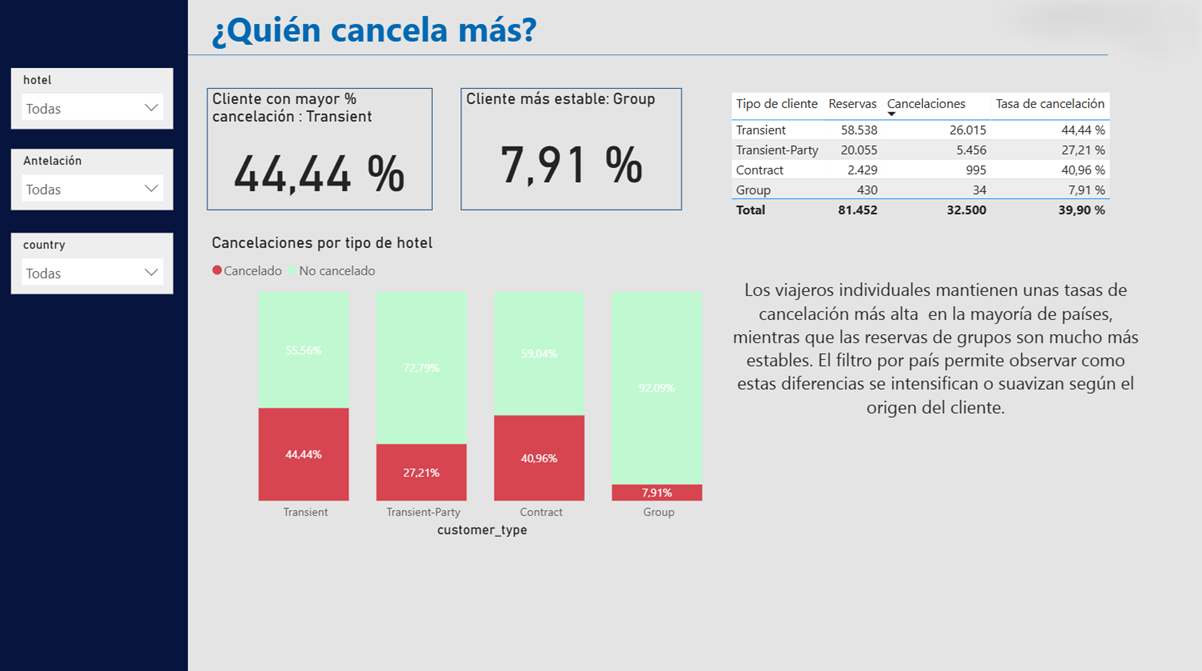

What the dashboard file says about the page in this screenshot:
{"tool":"powerbi","page":{"name":"¿Quién cancela más?","canvas":[1280,720],"ordinal":4},"visuals":[{"type":"textbox","box":[223.7,0,902.6,64.2],"z":0},{"type":"hundredPercentStackedColumnChart","title":"Cancelaciones por tipo de hotel","fields":{"Category":["hotel_bookings.customer_type"],"Y":["Medidas.Bookings"],"Series":["hotel_bookings.Estado Cancelacion"]},"box":[223.7,247.1,584.6,327.8],"z":1000},{"type":"card","title":"Cliente con mayor % cancelación : Transient","fields":{"Values":["Medidas.CancelRate"]},"box":[223.7,93.4,239.3,129.4],"z":2000},{"type":"card","title":"Cliente más estable: Group","fields":{"Values":["Medidas.CancelRate"]},"box":[493.1,93.4,234.4,129.4],"z":4000},{"type":"tableEx","title":"Cancelaciones por tipo de hotel","fields":{"Values":["hotel_bookings.customer_type","Medidas.Bookings","Medidas.Cancellations","Medidas.CancelRate"]},"box":[774.2,93.4,423.1,144],"z":5000},{"type":"slicer","fields":{"Values":["hotel_bookings.hotel"]},"box":[15.6,72,172.2,65.2],"z":7000},{"type":"slicer","fields":{"Values":["hotel_bookings.LeadTime_Rango"]},"box":[15.6,157.6,172.2,65.2],"z":8000},{"type":"slicer","fields":{"Values":["hotel_bookings.country"]},"box":[15.6,247.1,172.2,65.2],"z":8002},{"type":"textbox","box":[774.2,288.9,445.5,182.9],"z":8003}]}

Visuals, with their boxes in screenshot pixels (x1, y1, x2, y2), scaled from the page's 1280x720 canvas onto the 1202x671 screenshot:
textbox: (210, 0, 1058, 60)
"Cancelaciones por tipo de hotel" hundredPercentStackedColumnChart: (210, 230, 759, 536)
"Cliente con mayor % cancelación : Transient" card: (210, 87, 435, 208)
"Cliente más estable: Group" card: (463, 87, 683, 208)
"Cancelaciones por tipo de hotel" tableEx: (727, 87, 1124, 221)
slicer - hotel_bookings.hotel: (15, 67, 176, 128)
slicer - hotel_bookings.LeadTime_Rango: (15, 147, 176, 208)
slicer - hotel_bookings.country: (15, 230, 176, 291)
textbox: (727, 269, 1145, 440)
